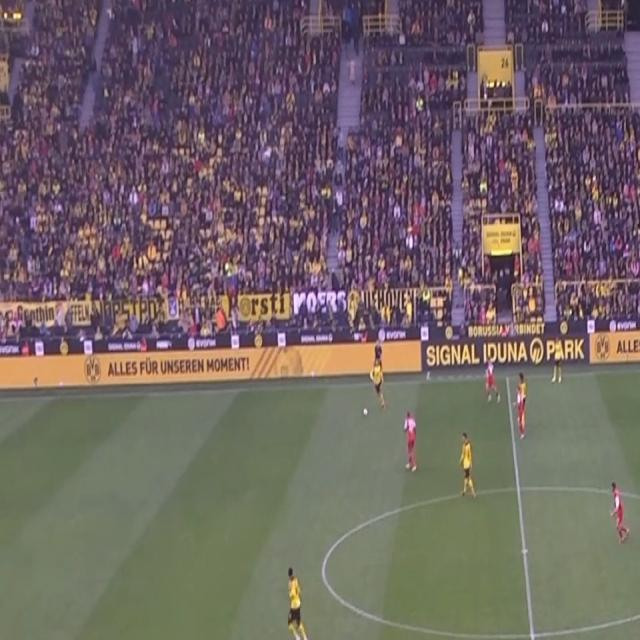ball: (363, 406, 369, 417)
